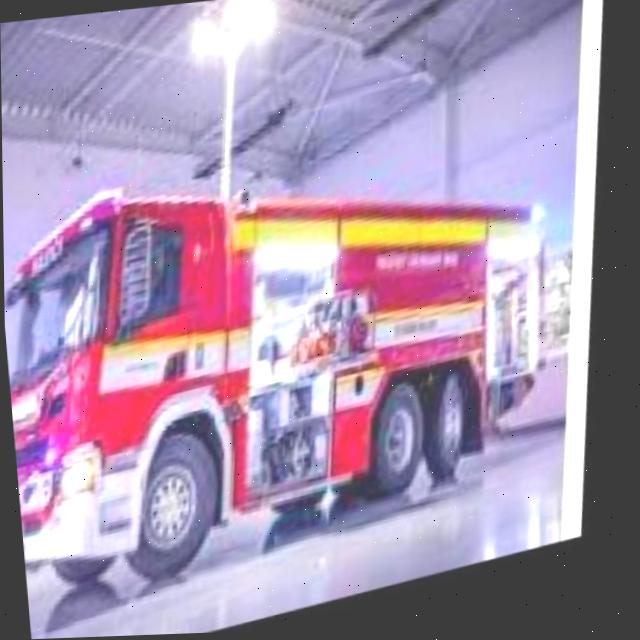emergency: (2, 141, 582, 600)
